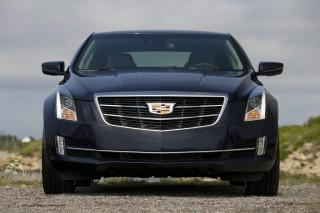cadillac: (141, 97, 179, 119)
